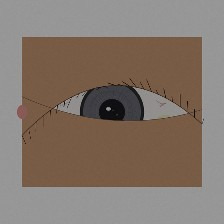pinguecula_lesion: (148, 106, 182, 133)
